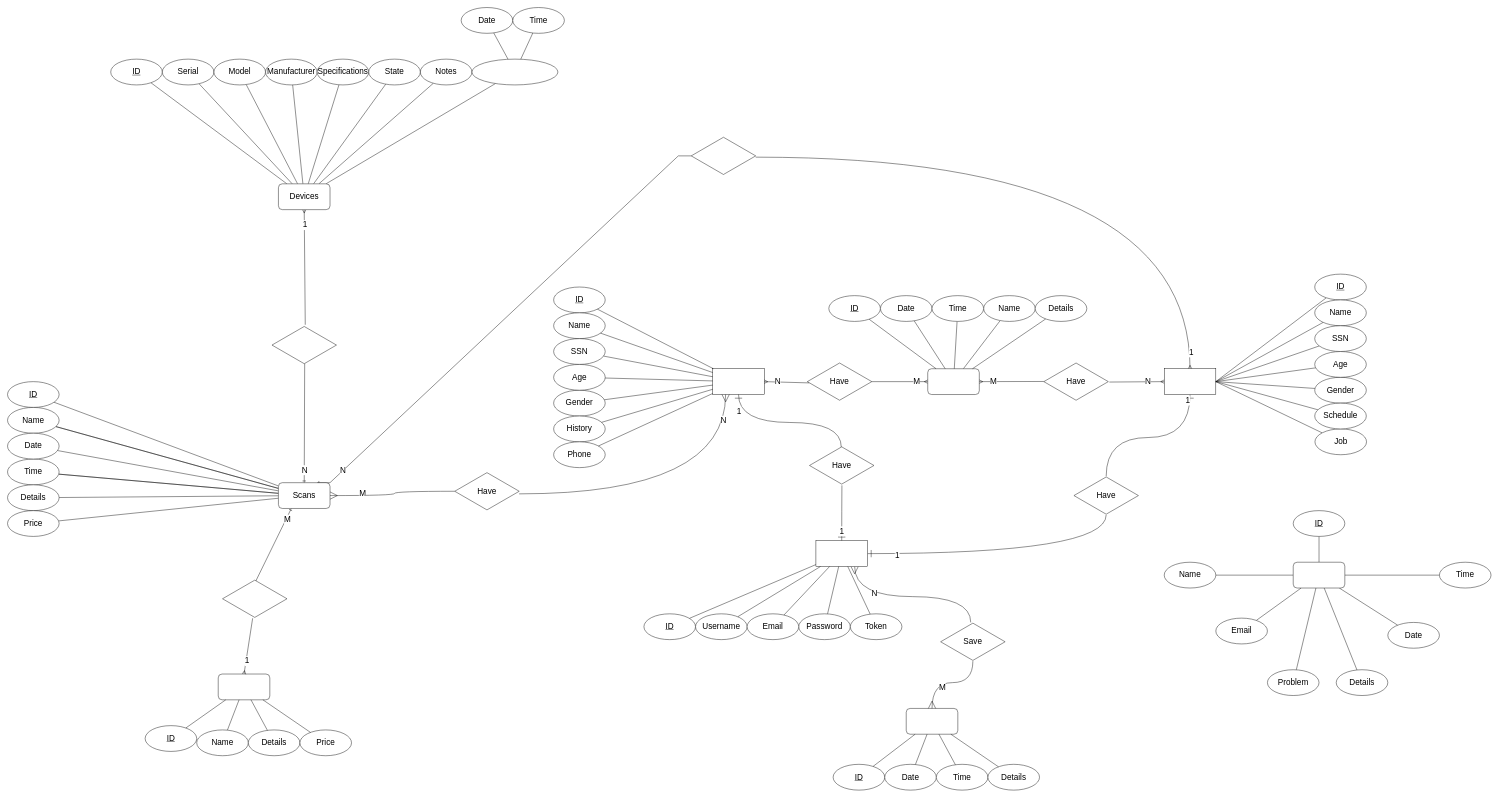
Some shapes in this 1499 by 798 pixel diagram are drawn without their labels. Each missing label, with the centre of its shape:
"Appointments" goes at [953,381].
"Complaints" goes at [1319,575].
"Cost" goes at [254,598].
"Do" goes at [723,155].
"LastMaintenance" goes at [514,72].
"Logs" goes at [932,721].
"Patients" goes at [738,381].
"Prices" goes at [244,687].
"Staff" goes at [1190,381].
"Used" goes at [304,344].
"Users" goes at [841,553].
